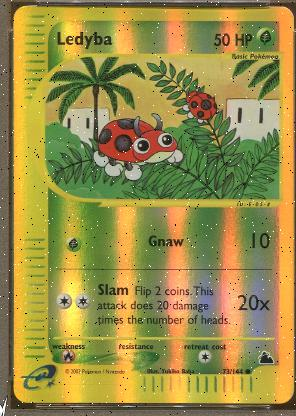Card: (12, 5, 294, 405)
